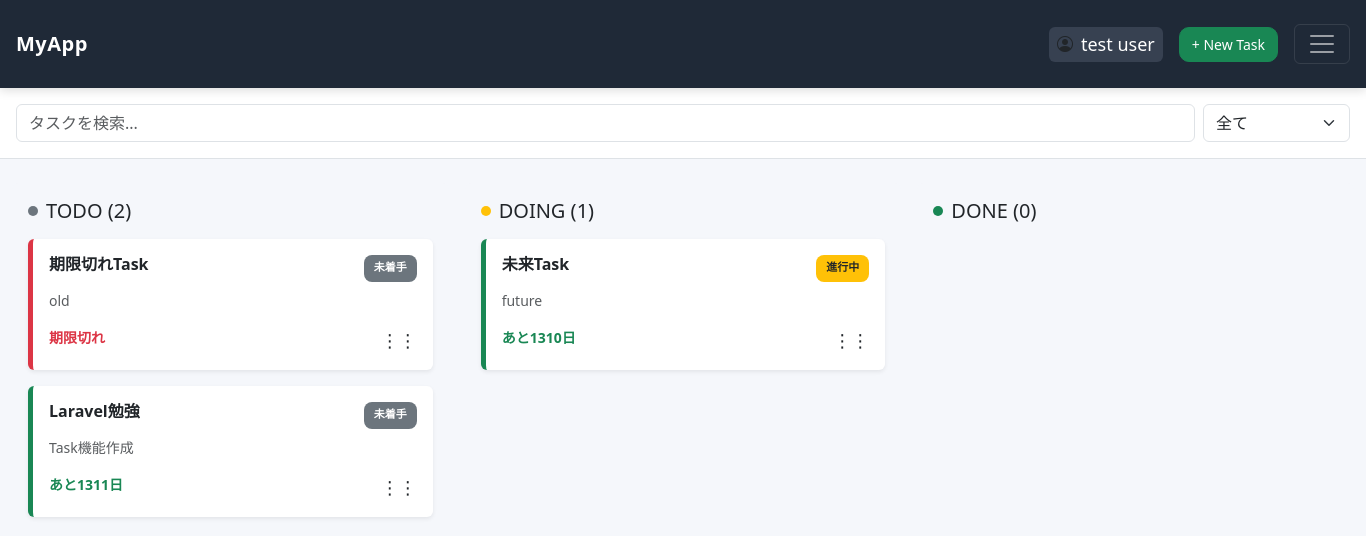
Scenario: FeatureList › 検索でタスクを絞り込める
This screenshot has width=1366, height=536.
expect the heading "Laravel勉強" is shown: met, box [49,402,140,421]
Step 1. Type "Laravel" into the field with placeholder "タスクを検索..." → (606, 123), box [16,104,1195,142]
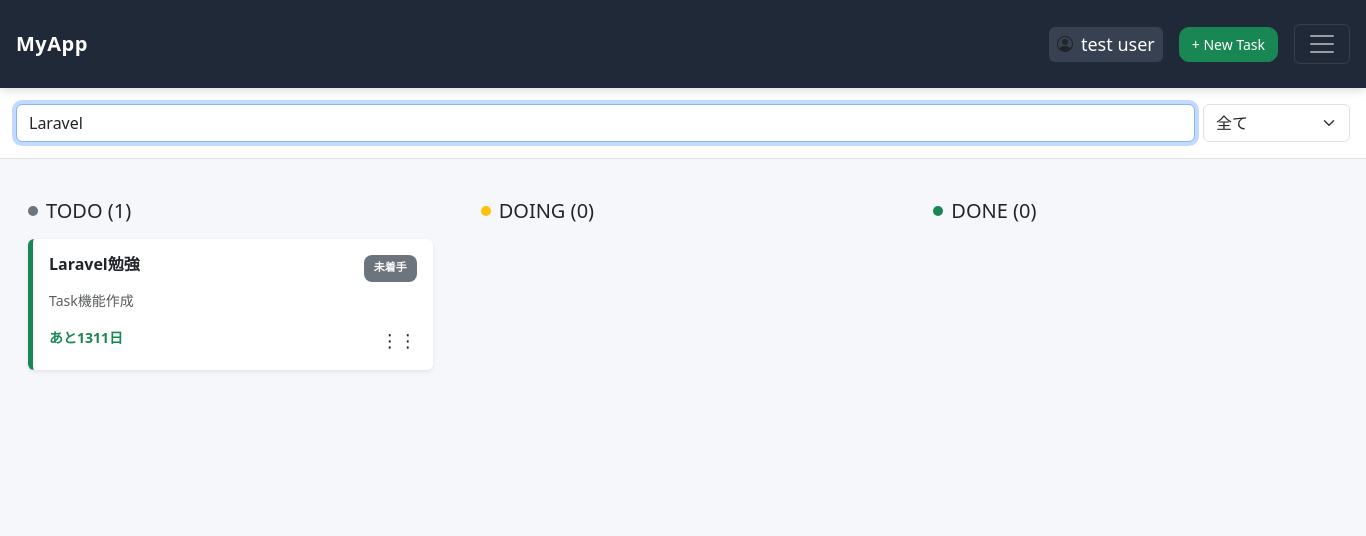
expect the heading "Laravel勉強" is shown: met, box [49,255,140,274]
expect the heading "未来Task" is gone: met
expect the heading "期限切れTask" is gone: met
